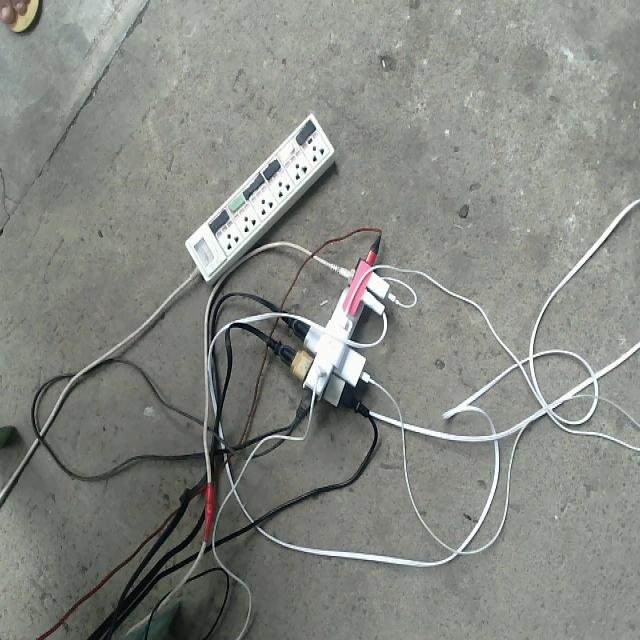-: (284, 239, 391, 413)
